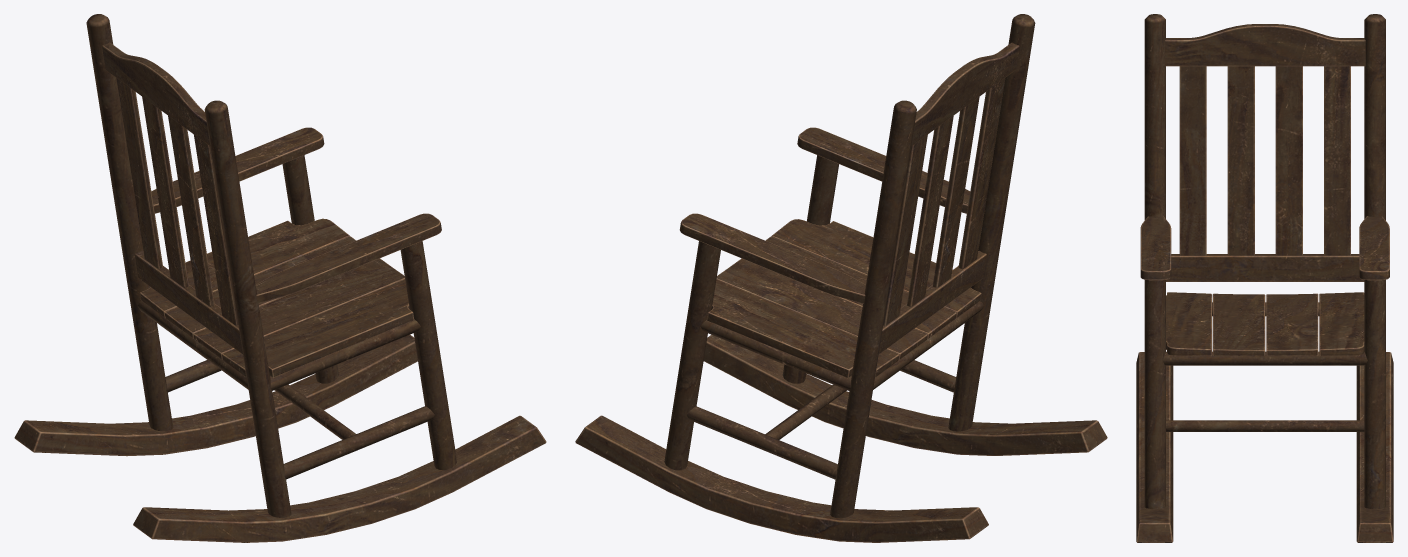
The model's file is rocking_chair.glb.
3 views of the same model, side by side, from view 1: azimuth 30°, elevation 25°; view 2: azimuth 150°, elevation 25°; view 3: azimuth 270°, elevation 25° (orthographic). The views are drawn at different scales.
Parts seen in each view (by area): view 1: Chair; view 2: Chair; view 3: Chair.
Boxes of the visible parts, x1,y1,x2,y2 form: Chair: (14,14,546,542); Chair: (575,14,1107,542); Chair: (1136,14,1393,542).
Bounding box in the file's own units: 0.7857 × 0.8539 × 0.477.
1 material, 1 textured.
